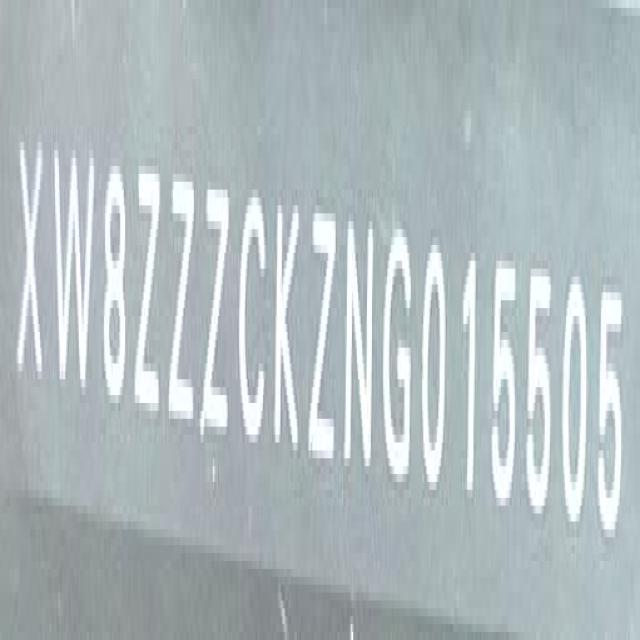0: (418, 217, 448, 500), (562, 266, 589, 542)
1: (460, 255, 479, 494)
5: (525, 252, 554, 532), (595, 275, 625, 542), (491, 246, 518, 524)
8: (101, 158, 128, 413)
C: (237, 178, 265, 456)
G: (382, 214, 414, 486)
K: (273, 184, 301, 477)
N: (343, 196, 376, 480)
W: (53, 140, 95, 401)
X: (16, 126, 45, 398)
Z: (306, 196, 338, 477), (168, 161, 198, 439), (200, 172, 230, 444), (134, 158, 162, 430)
